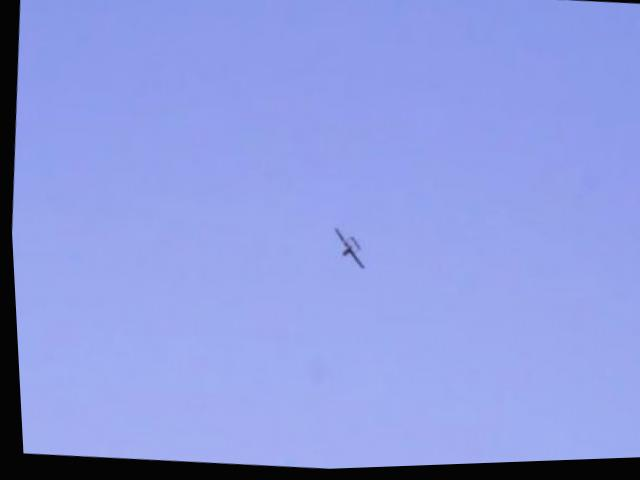uav: (324, 223, 367, 275)
